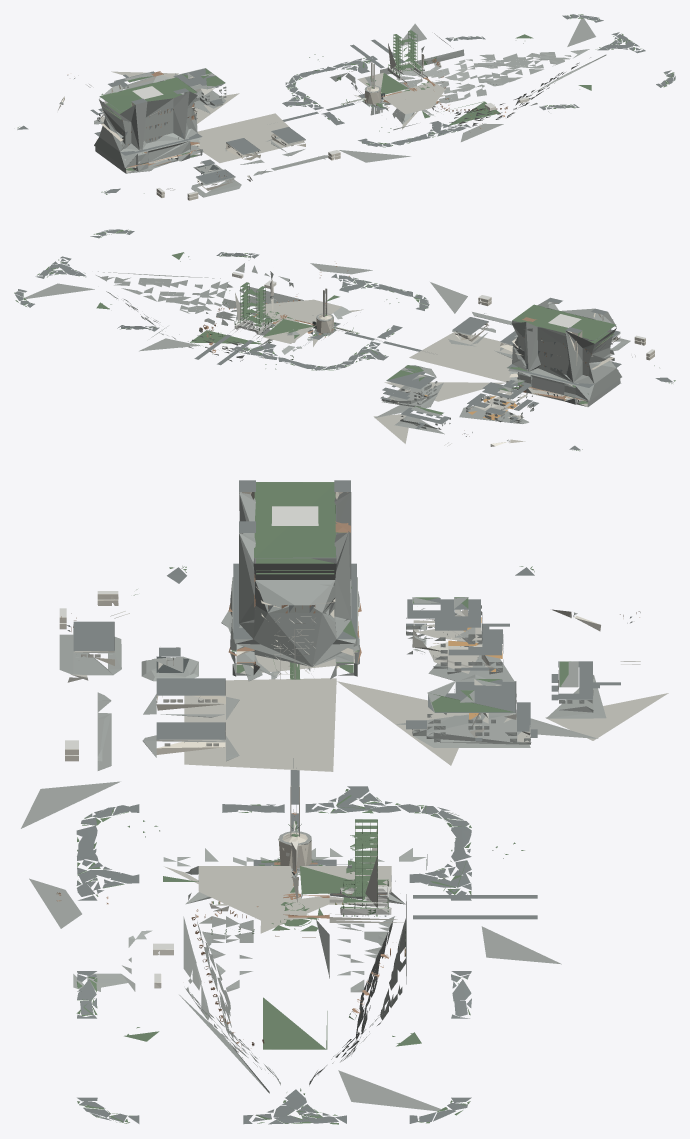
The model's file is launch_site_1.glb.
The picture shows the model from 3 angles, top to bottom: view 1: azimuth 30°, elevation 25°; view 2: azimuth 150°, elevation 25°; view 3: azimuth 270°, elevation 25°; orthographic projection. The views are drawn at different scales.
Parts seen in each view (by area): view 1: checkpoint_single_LOD0, road_nopavement_9x15_LOD0, shipping_container_900_a_LOD0, LOD0, bunker.room.15.ad, rocket_factory_walkway_cover_c_LOD0; view 2: checkpoint_single_LOD0, shipping_container_900_a_LOD0, road_nopavement_9x15_LOD0, LOD0, bunker.room.15.ad, rocket_factory_walkway_cover_c_LOD0; view 3: checkpoint_single_LOD0, shipping_container_900_a_LOD0, road_nopavement_9x15_LOD0, LOD0, bunker.room.15.ad, rocket_factory_walkway_cover_c_LOD0.
Part boxes in pixels (x1,y1,x2,y2): checkpoint_single_LOD0: (59,17,606,200); road_nopavement_9x15_LOD0: (17,14,675,193); shipping_container_900_a_LOD0: (87,41,445,190); LOD0: (17,14,675,194); bunker.room.15.ad: (102,38,528,197); rocket_factory_walkway_cover_c_LOD0: (67,59,507,177); checkpoint_single_LOD0: (23,263,654,441); shipping_container_900_a_LOD0: (232,288,635,446); road_nopavement_9x15_LOD0: (14,229,673,450); LOD0: (14,229,675,451); bunker.room.15.ad: (232,272,654,357); rocket_factory_walkway_cover_c_LOD0: (199,263,611,436); checkpoint_single_LOD0: (21,492,606,1111); shipping_container_900_a_LOD0: (67,609,668,933); road_nopavement_9x15_LOD0: (67,480,640,1124); LOD0: (76,482,570,1124); bunker.room.15.ad: (59,506,391,982); rocket_factory_walkway_cover_c_LOD0: (56,521,639,1051).
Size of the model in its own units: 560 by 99 by 281.
